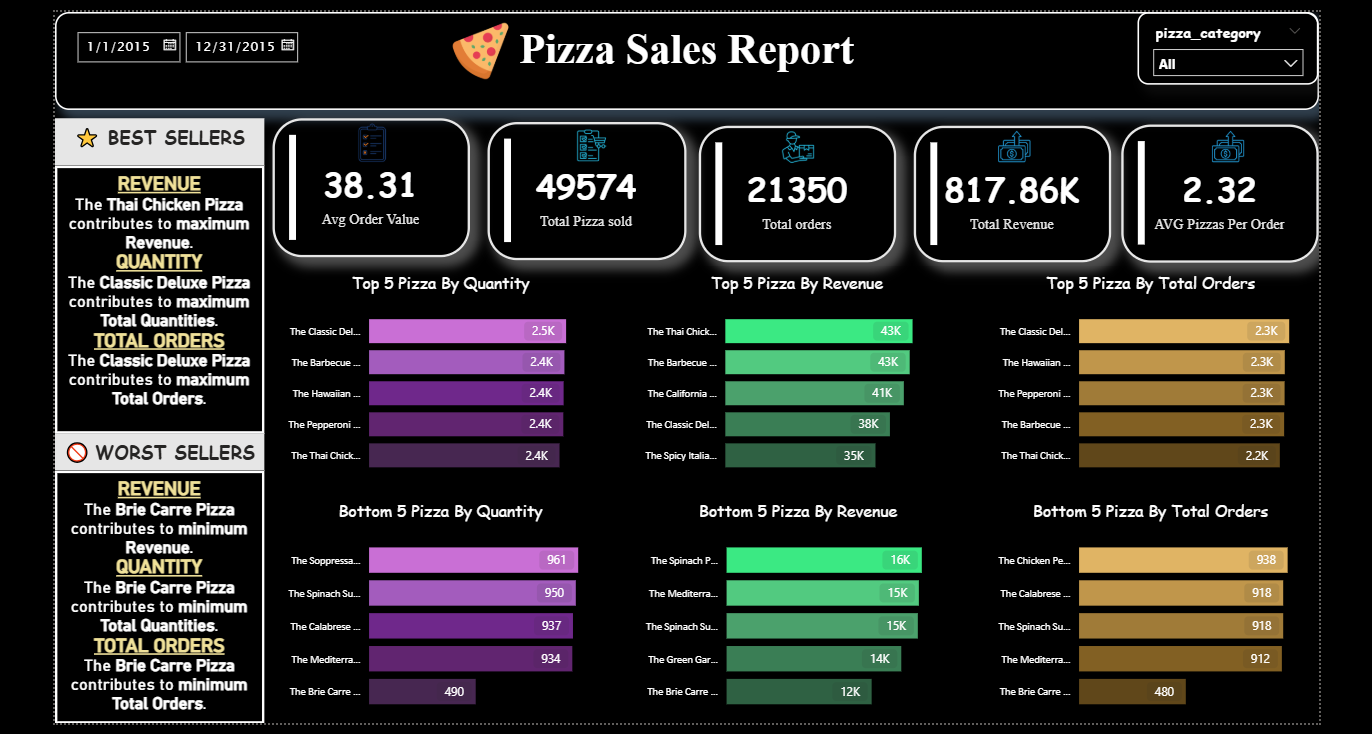

What the dashboard file says about the page in this screenshot:
{"tool":"powerbi","page":{"name":"Best-worst-seller","canvas":[1280,720],"ordinal":1},"visuals":[{"type":"textbox","box":[0,0,1280,98.9],"z":0},{"type":"textbox","box":[0,107.4,212.3,48.3],"z":1000},{"type":"textbox","box":[0,155.6,212.3,271.4],"z":2000},{"type":"textbox","box":[0,464.5,212.3,255.8],"z":3000},{"type":"textbox","box":[0,427.1,212.3,37.4],"z":4000},{"type":"slicer","fields":{"Values":["vw_Chart_3_Pct_Sales_By_Category.pizza_category"]},"box":[1096.6,0,183.4,73.6],"z":5000},{"type":"image","box":[394.5,4.8,72.4,68.8],"z":6000},{"type":"slicer","fields":{"Values":["pizza_sales.order_date"]},"box":[10,10,246.1,49.5],"z":7000},{"type":"cardVisual","fields":{"Data":["Sum(vw_Kpi_3_Avg_Order_Value.Avg_Order_Value)"]},"box":[220.8,107.4,200.3,141.2],"z":8000},{"type":"cardVisual","fields":{"Data":["Sum(vw_KPI_5_Avg_Pizzas_Per_Order.AVG_Pizzas_Per_Order)"]},"box":[1079.7,113.4,200.3,139.9],"z":9000},{"type":"cardVisual","fields":{"Data":["Sum(vw_KPI_1_Total_Revenue.Total Revenue)"]},"box":[869.8,114.6,200.3,138.7],"z":10000},{"type":"cardVisual","fields":{"Data":["Sum(vw_KPI_1_Total_Orders.Total_orders)"]},"box":[651.5,114.6,200.3,138.7],"z":11000},{"type":"cardVisual","fields":{"Data":["Sum(vw_Kpi_4_Total_pizza_sold.Total_Pizza_sold)"]},"box":[437.9,111,201.5,139.9],"z":12000},{"type":"image","box":[725.1,115.8,54.3,43.4],"z":13000},{"type":"image","box":[521.2,113.4,44.6,42.2],"z":14000},{"type":"image","box":[292,107.4,57.9,49.5],"z":15000},{"type":"image","box":[927.8,112.2,86.9,47.1],"z":16000},{"type":"image","box":[1143.7,112.2,86.9,47.1],"z":17000},{"type":"barChart","title":"Top 5 Pizza By Quantity ","fields":{"Category":["vw_Top5_Pizzas_By_Quantity.pizza_name"],"Y":["Avg(vw_Top5_Pizzas_By_Quantity.Total_Quantity)"]},"box":[220.3,263.3,340.5,216.5],"z":18000},{"type":"barChart","title":"Bottom 5 Pizza By Revenue","fields":{"Category":["vw_Bottom5_Pizzas_By_Revenue.pizza_name"],"Y":["Sum(vw_Bottom5_Pizzas_By_Revenue.Total_Revenue)"]},"box":[582.7,493.4,340.2,226.8],"z":19000},{"type":"barChart","title":"Bottom 5 Pizza By Quantity ","fields":{"Y":["Sum(vw_Bottom5_Pizzas_By_Quantity.Total_Quantity)"],"Category":["vw_Bottom5_Pizzas_By_Quantity.pizza_name"]},"box":[220.8,493.4,340.2,226.8],"z":20000},{"type":"barChart","title":"Top 5 Pizza By Revenue","fields":{"Category":["vw_Top5_Pizzas_By_Revenue.pizza_name"],"Y":["Sum(vw_Top5_Pizzas_By_Revenue.Total_Revenue)"]},"box":[581,263.3,340.5,216.5],"z":21000},{"type":"barChart","title":"Top 5 Pizza By Total Orders","fields":{"Category":["vw_Top5_pizzas_by_Total_Orders.pizza_name"],"Y":["Sum(vw_Top5_pizzas_by_Total_Orders.Total_Orders)"]},"box":[939.2,263.3,340.5,216.5],"z":22000},{"type":"barChart","title":"Bottom 5 Pizza By Total Orders","fields":{"Category":["vw_Bottom5_pizzas_by_Total_Orders.pizza_name"],"Y":["Sum(vw_Bottom5_pizzas_by_Total_Orders.Total_Orders)"]},"box":[939.8,493.2,340.2,226.8],"z":23000}]}

Visuals, with their boxes on the page's 1280x720 design canvas (x1, y1, x2, y2). These are canvas units, not pixel positions in the 1372x734 screenshot, which may show the page scaled, cropped or inside an application window:
textbox: (0,0,1280,99)
textbox: (0,107,212,156)
textbox: (0,156,212,427)
textbox: (0,464,212,720)
textbox: (0,427,212,464)
slicer - vw_Chart_3_Pct_Sales_By_Category.pizza_category: (1097,0,1280,74)
image: (394,5,467,74)
slicer - pizza_sales.order_date: (10,10,256,60)
cardVisual - Sum(vw_Kpi_3_Avg_Order_Value.Avg_Order_Value): (221,107,421,249)
cardVisual - Sum(vw_KPI_5_Avg_Pizzas_Per_Order.AVG_Pizzas_Per_Order): (1080,113,1280,253)
cardVisual - Sum(vw_KPI_1_Total_Revenue.Total Revenue): (870,115,1070,253)
cardVisual - Sum(vw_KPI_1_Total_Orders.Total_orders): (652,115,852,253)
cardVisual - Sum(vw_Kpi_4_Total_pizza_sold.Total_Pizza_sold): (438,111,639,251)
image: (725,116,779,159)
image: (521,113,566,156)
image: (292,107,350,157)
image: (928,112,1015,159)
image: (1144,112,1231,159)
"Top 5 Pizza By Quantity " barChart: (220,263,561,480)
"Bottom 5 Pizza By Revenue" barChart: (583,493,923,720)
"Bottom 5 Pizza By Quantity " barChart: (221,493,561,720)
"Top 5 Pizza By Revenue" barChart: (581,263,922,480)
"Top 5 Pizza By Total Orders" barChart: (939,263,1280,480)
"Bottom 5 Pizza By Total Orders" barChart: (940,493,1280,720)
